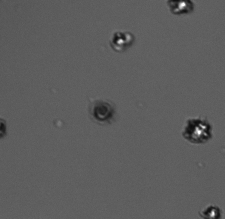Dead Cell: (92, 101, 113, 122)
Living Cell: (185, 120, 211, 142), (111, 32, 132, 51), (171, 1, 192, 15), (200, 204, 221, 218)
